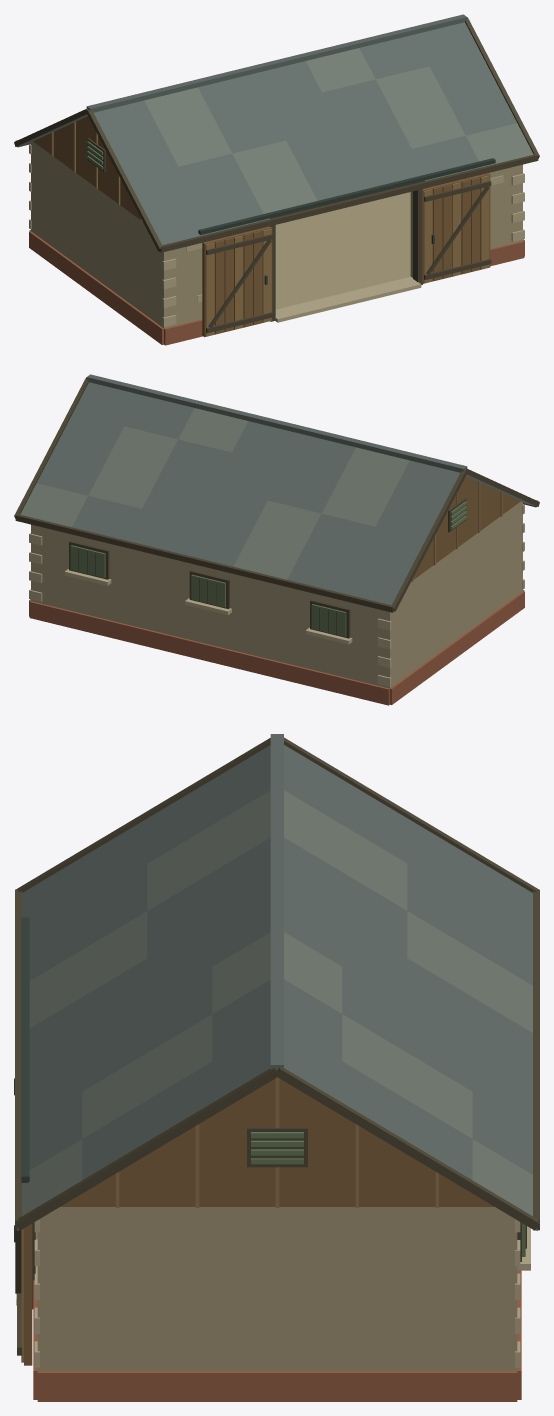
Rendered from lwf_barn_v1.glb.
3 renders of one model, top to bottom at view 1: azimuth 30°, elevation 25°; view 2: azimuth 150°, elevation 25°; view 3: azimuth 270°, elevation 25°, orthographic. The views are drawn at different scales.
Visible parts, largest first — view 1: LWF_Barn_Roof, LWF_Barn_Shell; view 2: LWF_Barn_Roof, LWF_Barn_Shell; view 3: LWF_Barn_Roof, LWF_Barn_Shell.
Boxes of the visible parts, <box> form: LWF_Barn_Roof: <box>14,14,539,252</box>; LWF_Barn_Shell: <box>29,116,524,345</box>; LWF_Barn_Roof: <box>14,374,539,612</box>; LWF_Barn_Shell: <box>29,476,524,705</box>; LWF_Barn_Roof: <box>15,734,539,1230</box>; LWF_Barn_Shell: <box>14,917,530,1401</box>.
Size of the model in its own units: 14.83 by 7.1 by 9.87.
